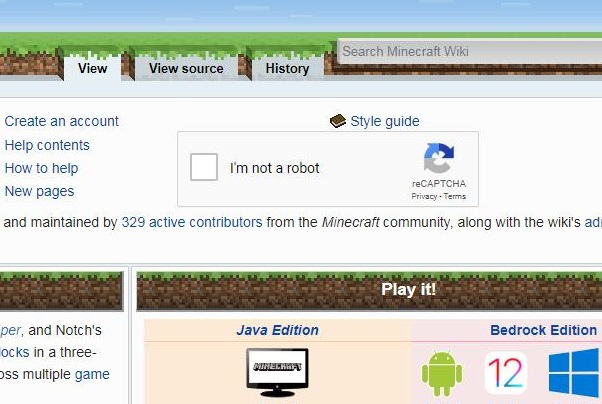captcha: (190, 153, 321, 181)
